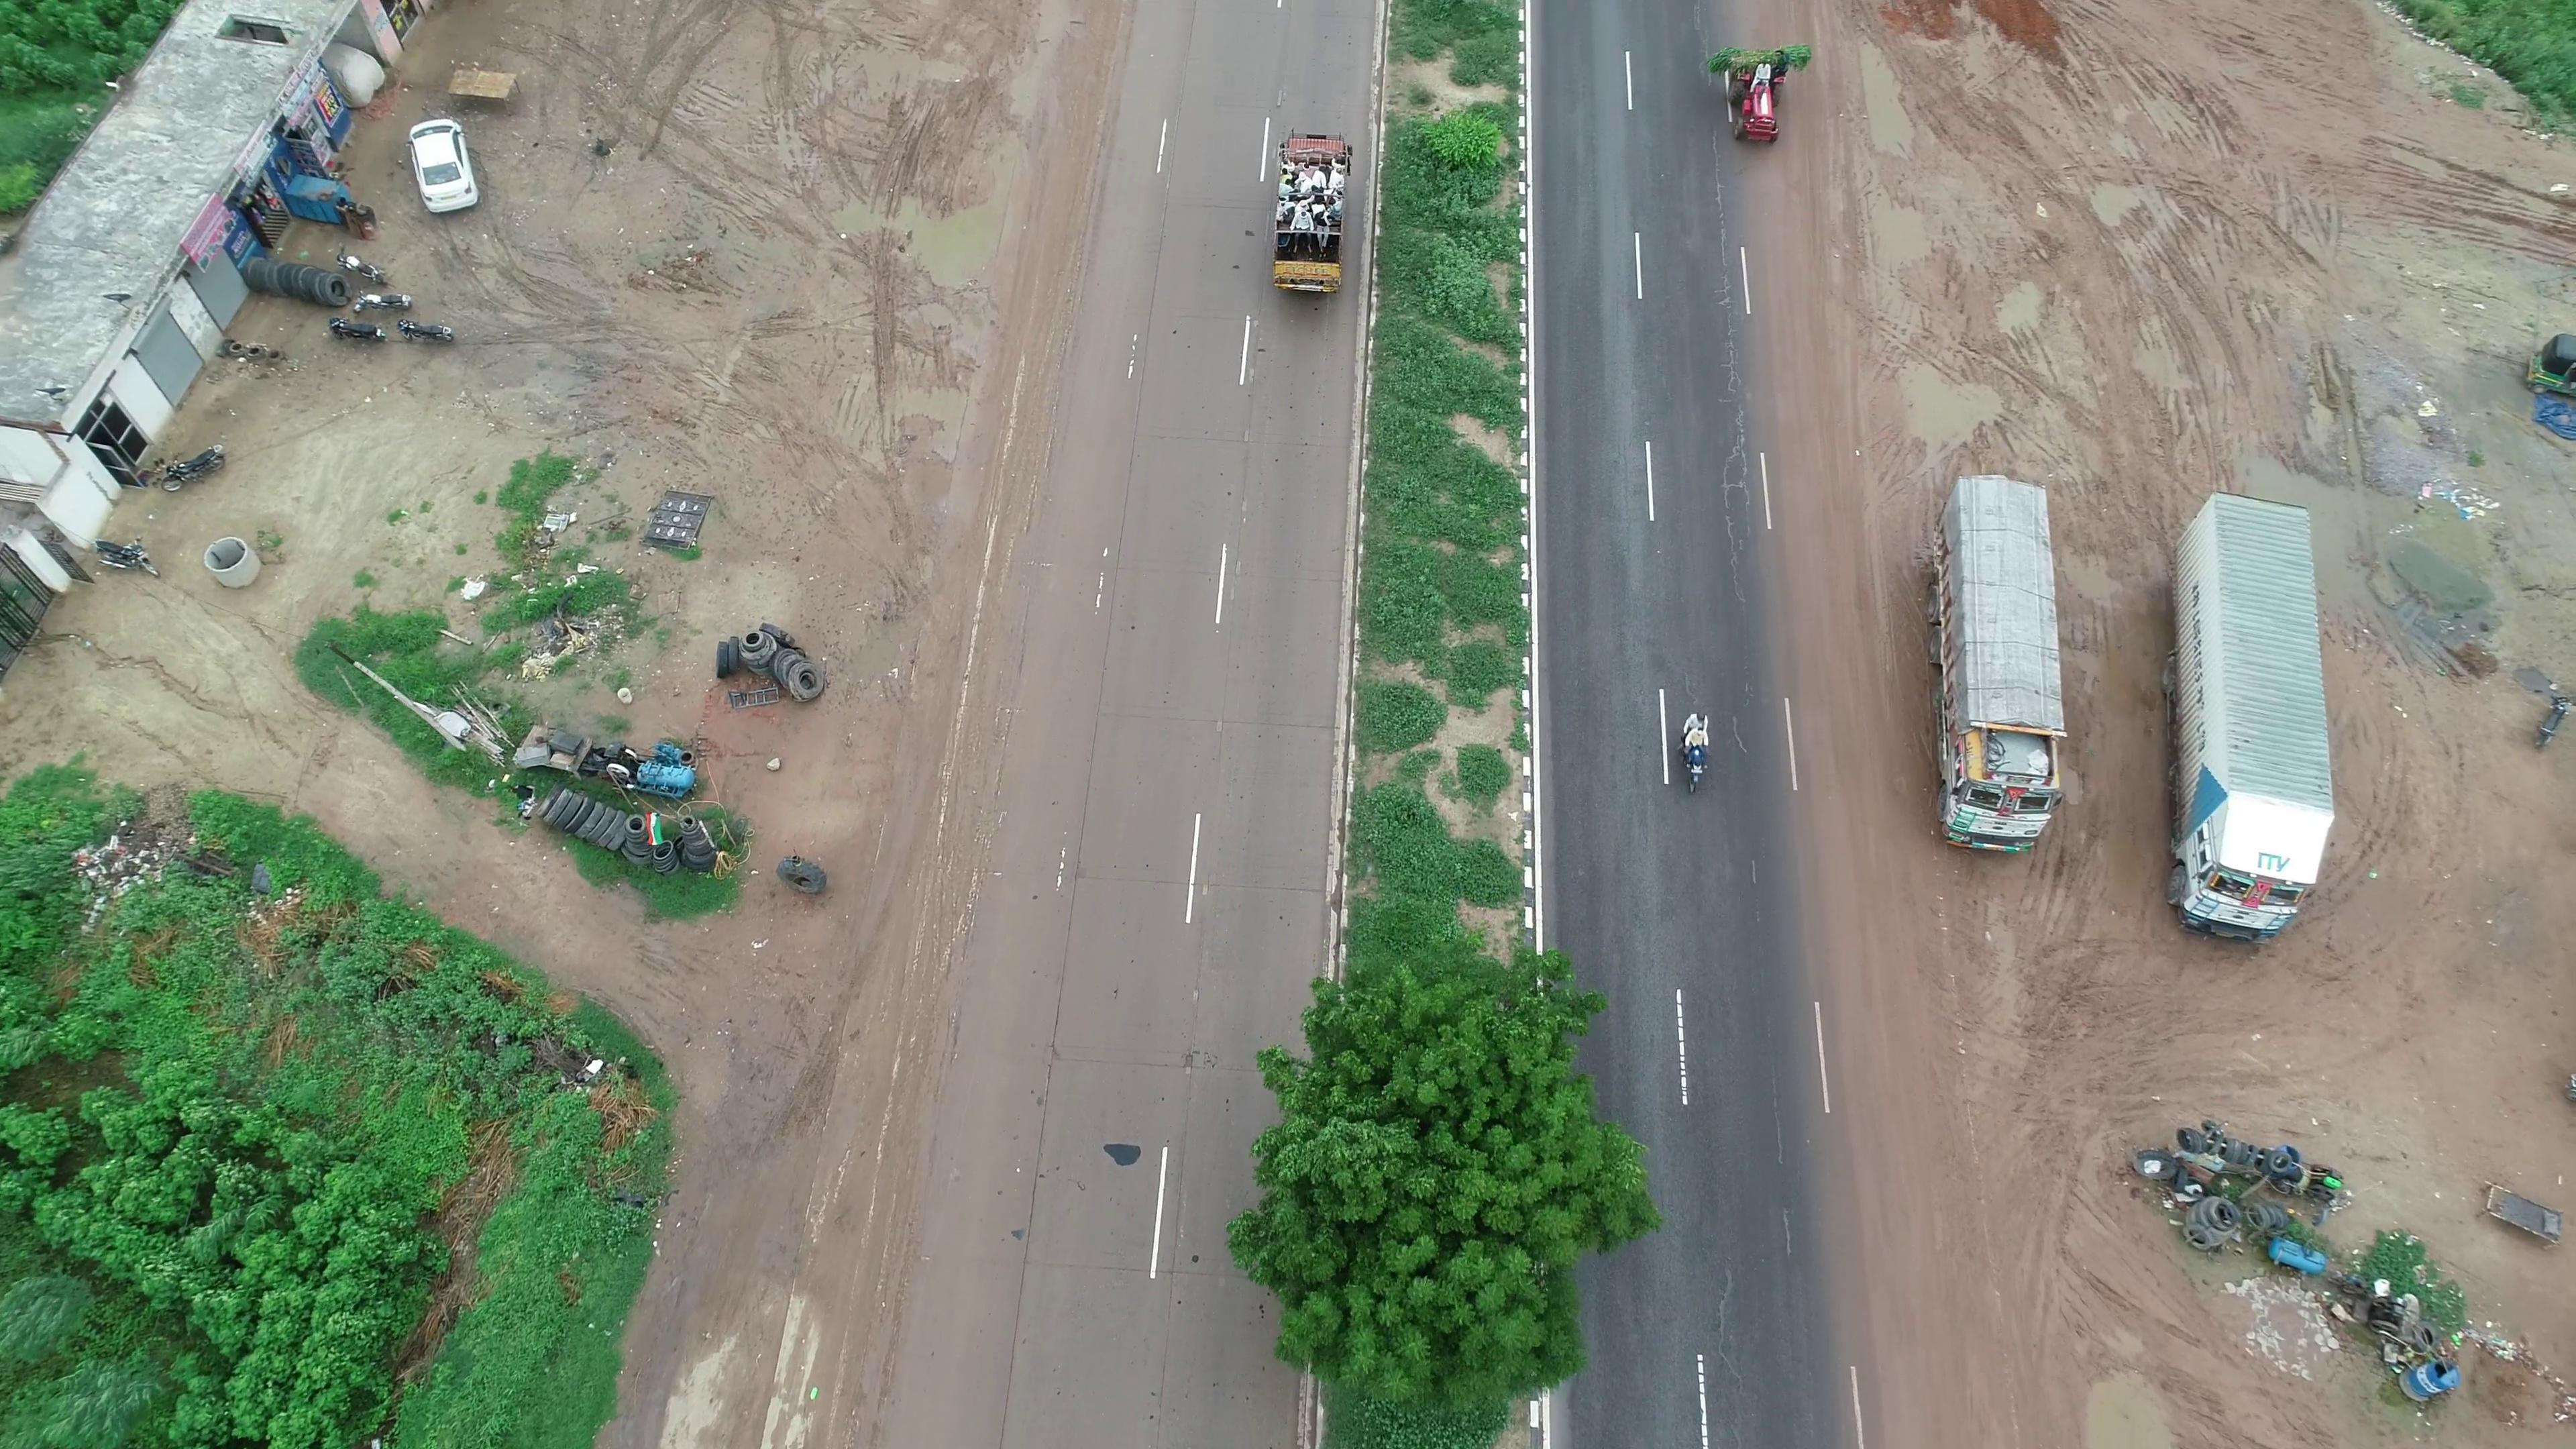Muddy_road: (1808, 855, 2065, 1447), (1755, 150, 1921, 483)
